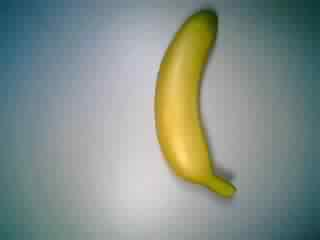banana: (149, 5, 239, 198)
